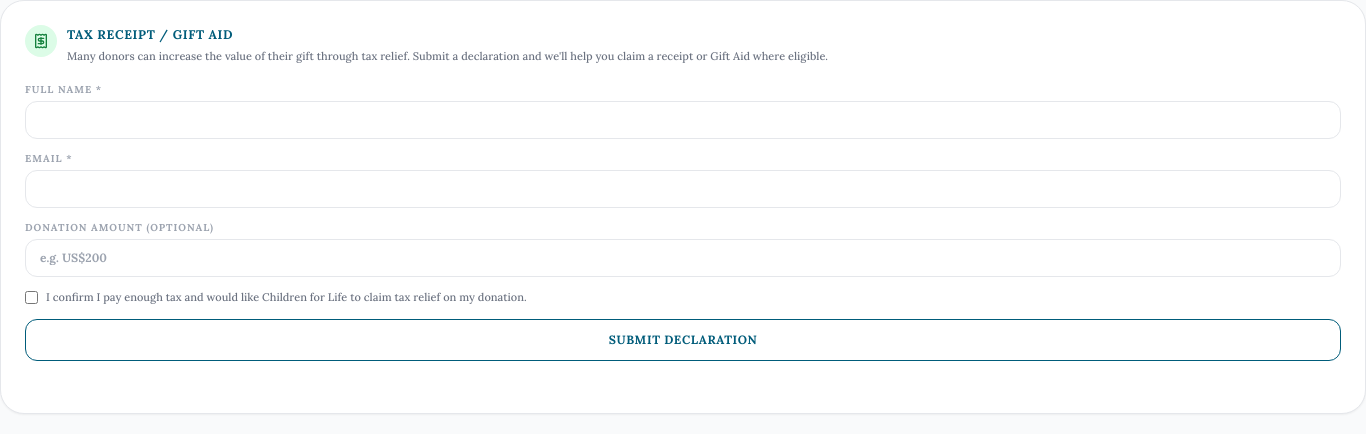
Test case: GiftAidForm › submits successfully and shows confirmation
Type "Jane Doe" into the field labelled "Full name *" at (683, 120), box [25, 101, 1341, 139]
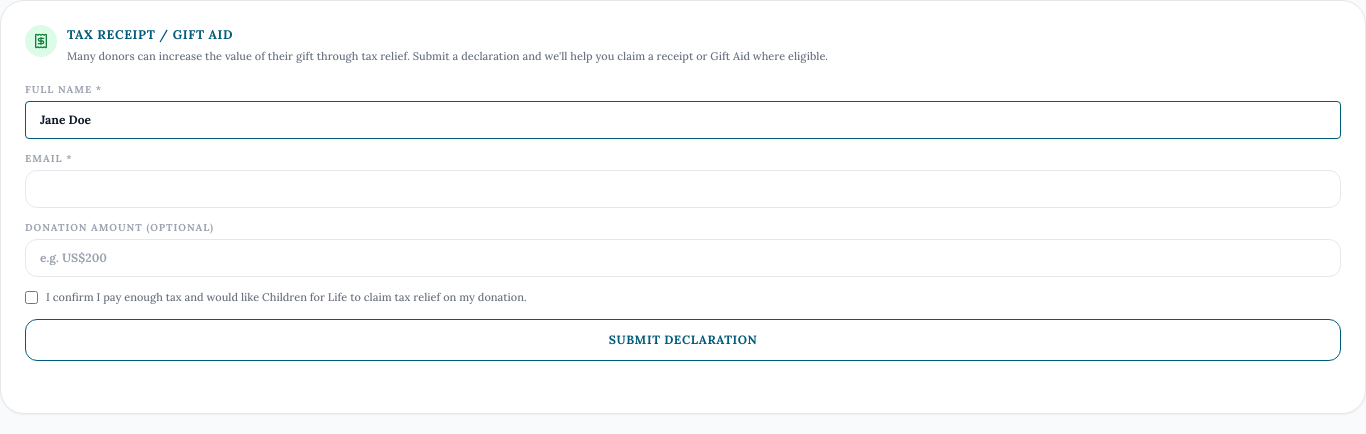
Type "jane@example.com" into the field labelled "Email *" at (683, 189), box [25, 170, 1341, 208]
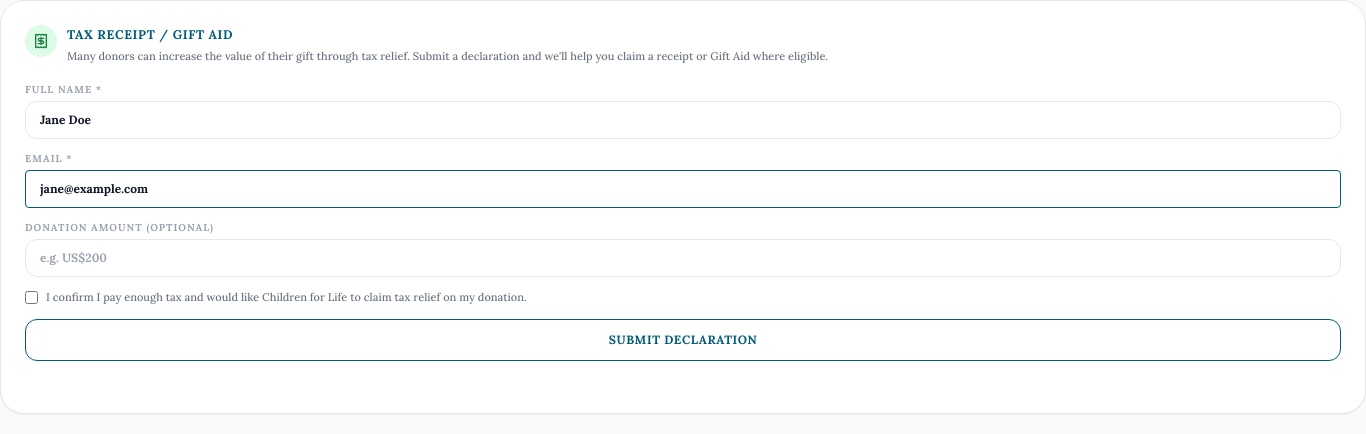
Click the checkbox labelled "I confirm I pay enough tax" at (32, 297), box [25, 291, 38, 304]
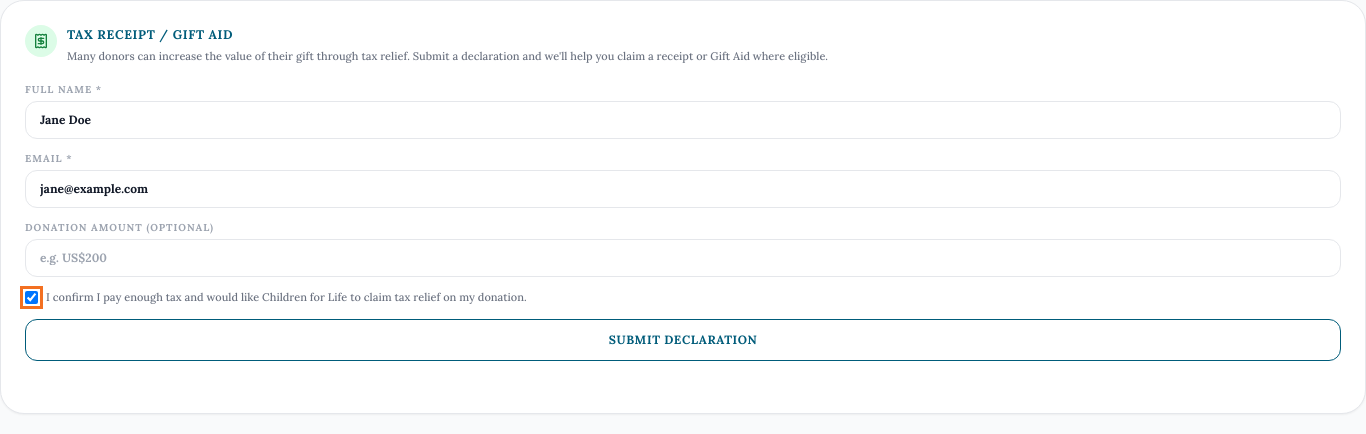
Click the button "Submit Declaration" at (683, 340), box [25, 318, 1341, 360]
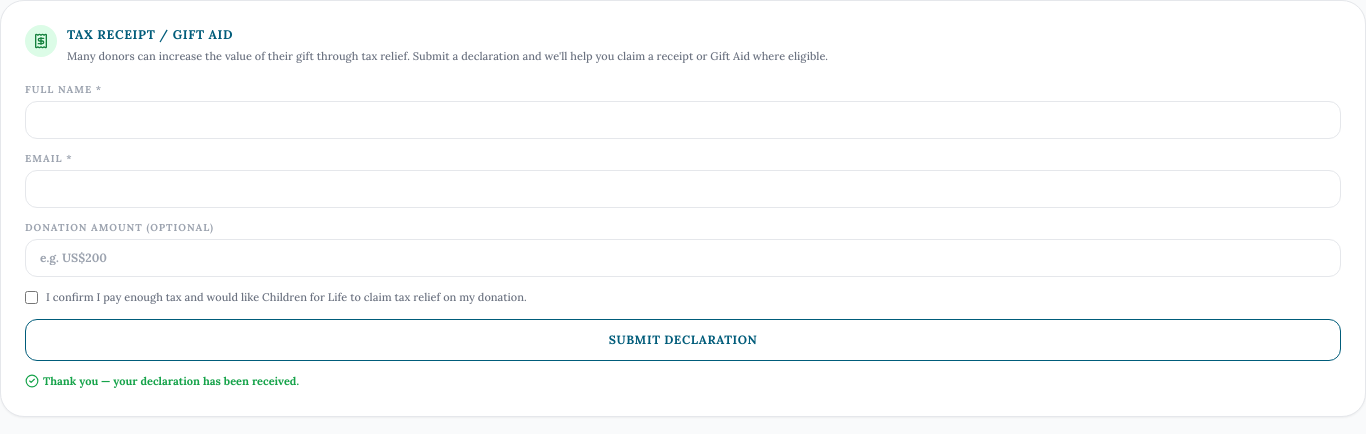
Expected: the text "Thank you — your declaration has been received." is shown, [25, 372, 299, 389]
